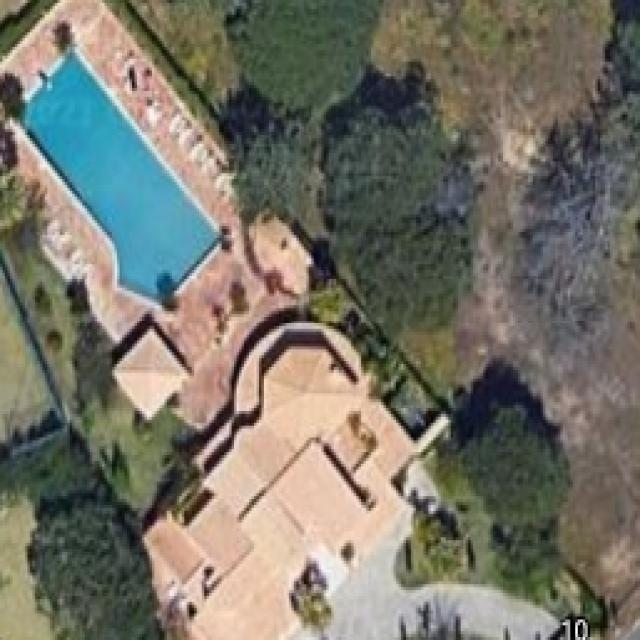pool: (15, 38, 231, 311)
